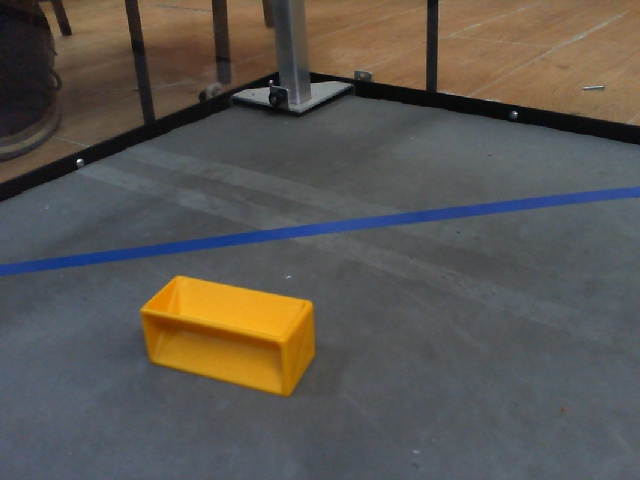YellowSample: (136, 274, 317, 397)
